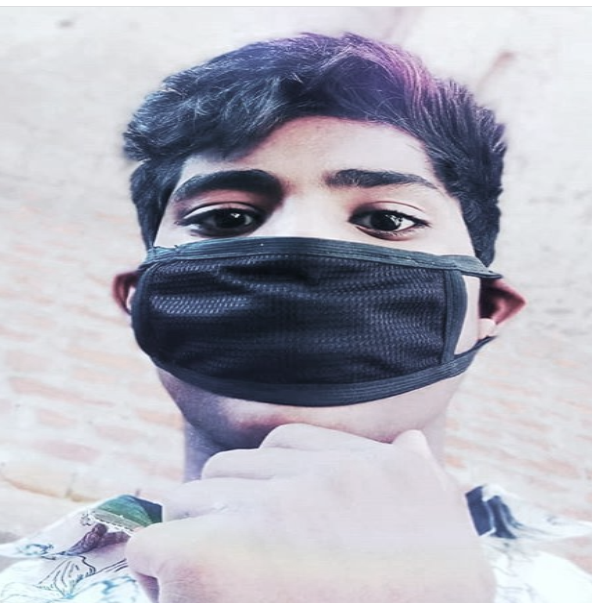mask_weared_incorrect: (108, 34, 520, 457)
